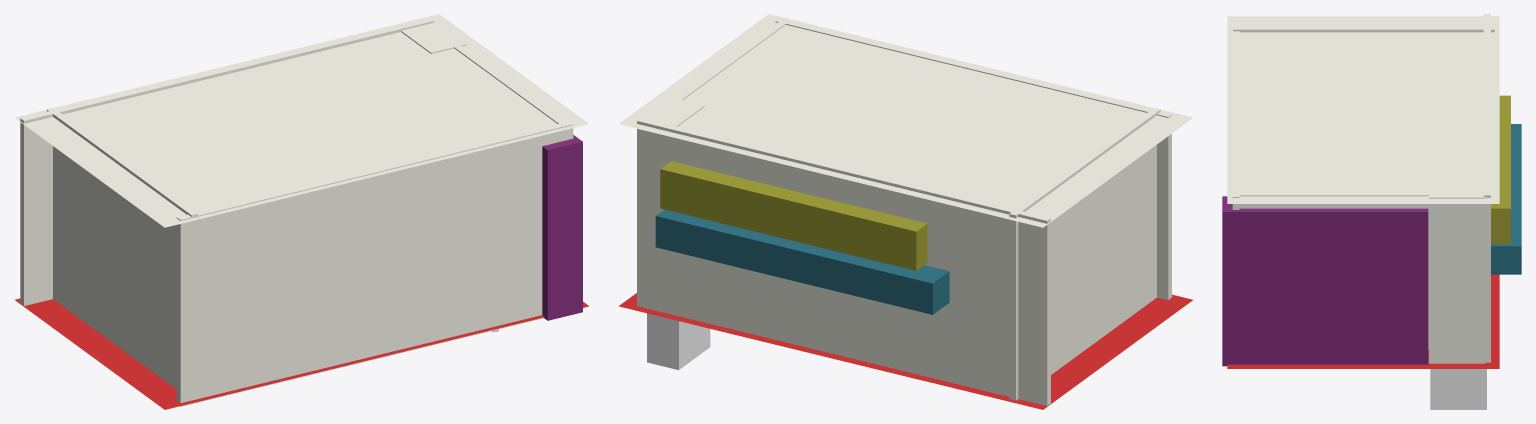
File: modular_kitchen.FBX
The picture shows the model from 3 angles, left to right: view 1: azimuth 30°, elevation 25°; view 2: azimuth 150°, elevation 25°; view 3: azimuth 270°, elevation 25°; orthographic projection. The views are drawn at different scales.
Parts seen in each view (by area): view 1: Box003, Plane002, Box011, Box001, Box010, Plane001, Box009, Box002; view 2: Plane002, Box001, Box011, Box008, Box007, Plane001, Box003, Box012, Box009, Box002; view 3: Plane002, Box010, Box009, Box001, Box012, Box007, Plane001, Box008, Box002, Box011, Box003.
Boxes of the visible parts, x1,y1,x2,y2 form: Box003: [176, 121, 573, 406]; Plane002: [15, 14, 589, 227]; Box011: [47, 108, 198, 388]; Box001: [20, 18, 434, 305]; Box010: [542, 135, 582, 320]; Plane001: [14, 298, 588, 409]; Box009: [401, 21, 466, 53]; Box002: [454, 45, 568, 126]; Plane002: [618, 14, 1192, 227]; Box001: [637, 118, 1050, 405]; Box011: [1009, 108, 1160, 400]; Box008: [660, 161, 927, 270]; Box007: [655, 209, 949, 314]; Plane001: [619, 293, 1193, 409]; Box003: [775, 18, 1171, 299]; Box012: [647, 313, 710, 369]; Box009: [638, 97, 704, 126]; Box002: [675, 19, 788, 100]; Plane002: [1227, 16, 1499, 203]; Box010: [1222, 196, 1428, 366]; Box009: [1429, 182, 1485, 363]; Box001: [1483, 14, 1490, 362]; Box012: [1430, 369, 1486, 409]; Box007: [1491, 124, 1521, 274]; Plane001: [1227, 274, 1499, 368]; Box008: [1491, 95, 1510, 244]; Box002: [1233, 192, 1428, 349]; Box011: [1233, 26, 1494, 32]; Box003: [1232, 23, 1239, 209].
Bounding box in the file's own units: 313 × 170 × 211.
